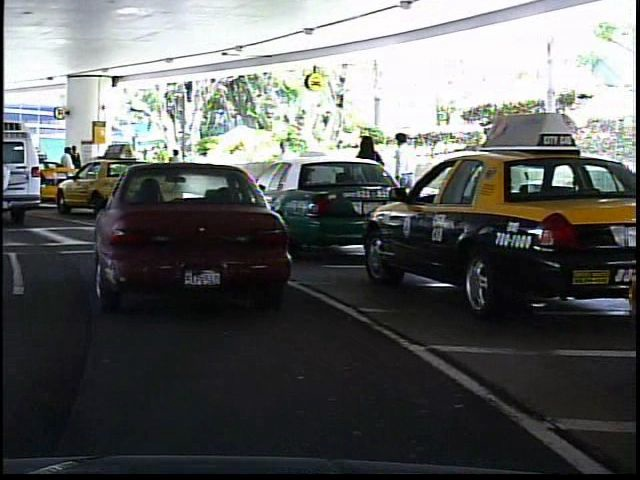person: (388, 125, 422, 228), (349, 130, 383, 229), (268, 134, 296, 207), (160, 143, 186, 195), (56, 146, 75, 198), (67, 143, 83, 195)
